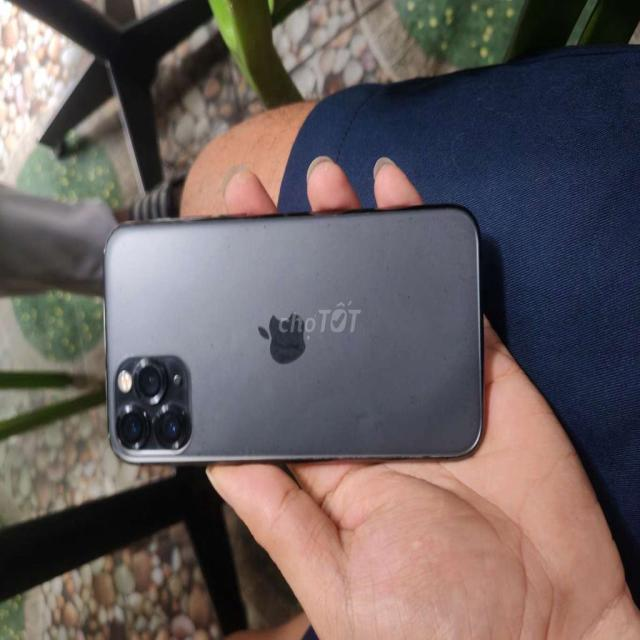gen_11: (94, 208, 496, 469)
